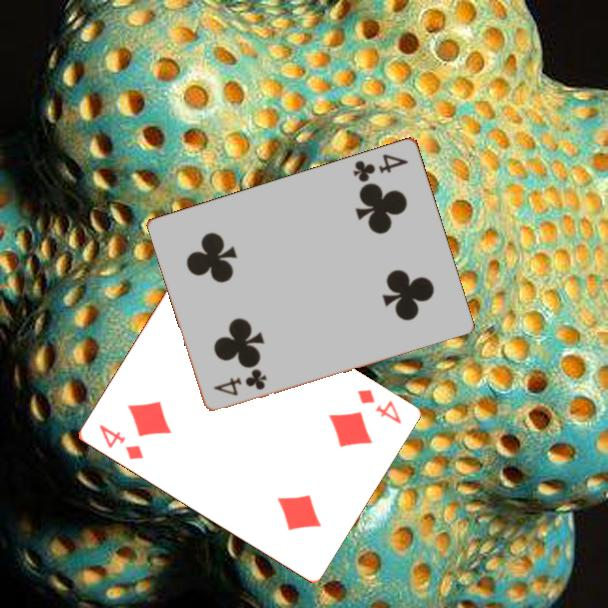c04: (349, 150, 411, 185), (210, 366, 270, 398)
d04: (95, 421, 146, 463), (353, 386, 404, 427)
